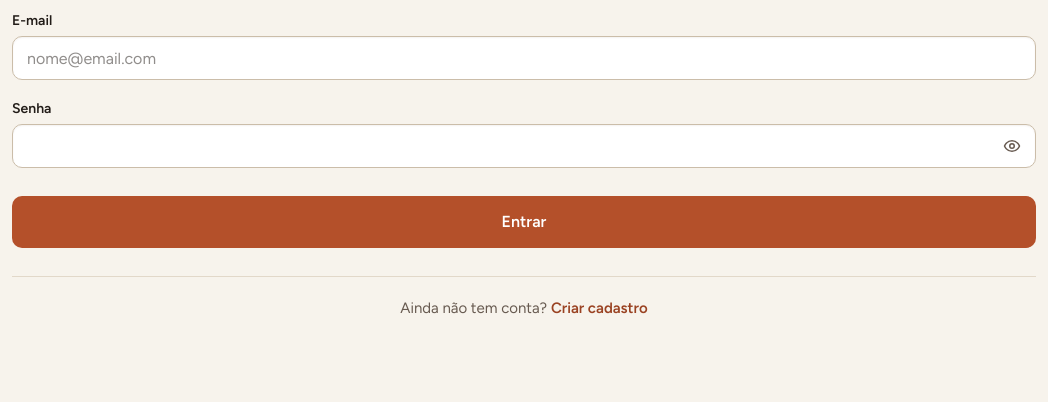
Scenario: LoginForm › credenciais invalidas mostram mensagem generica sem apontar o campo
Type "ana@origem.test" into the field labelled "E-mail" at (524, 58), box [12,36,1036,80]
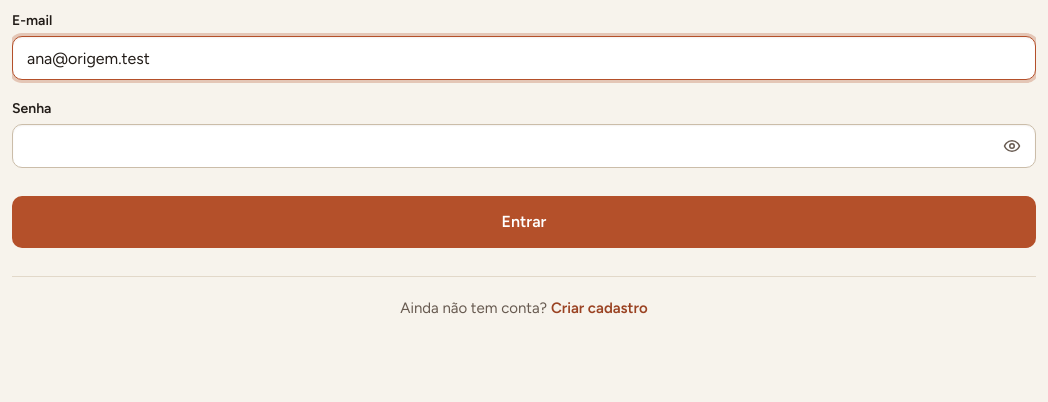
Type "senha-errada" into the password field labelled "Senha" at (524, 146), box [12,124,1036,168]
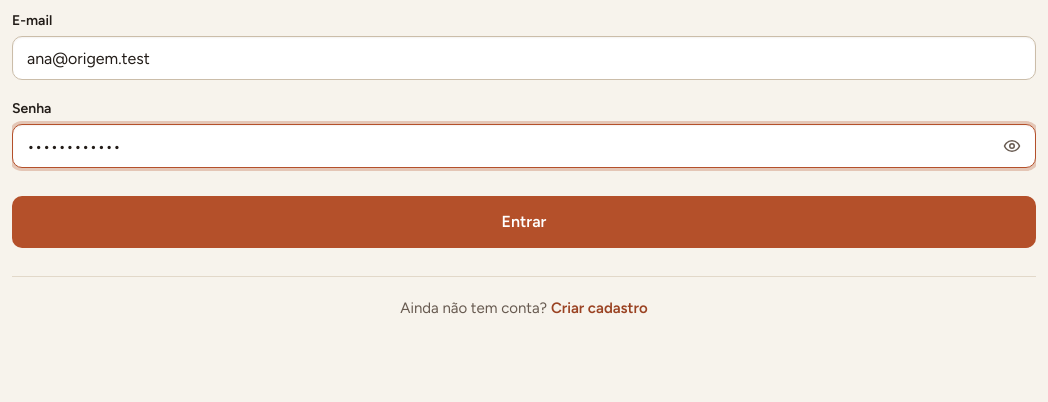
Click the button "Entrar" at (524, 222), box [12,196,1036,248]
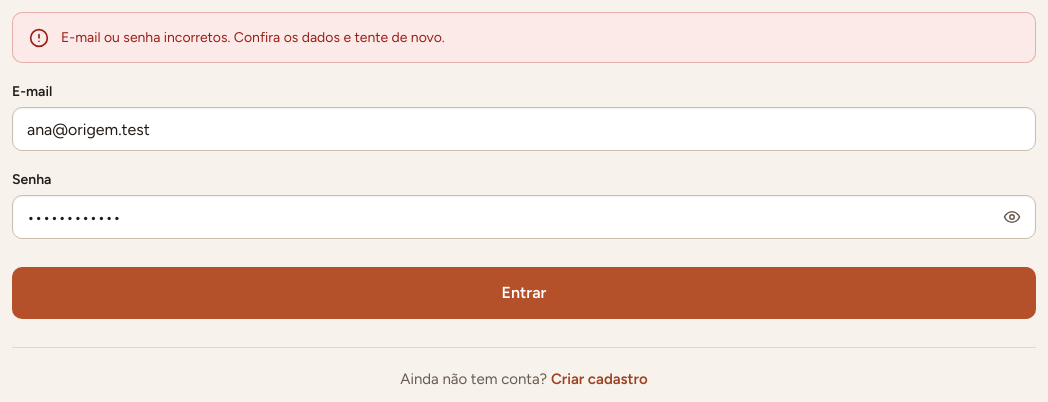
Check: the message reads "E-mail ou senha incorretos. Confira os dados e tente de novo.", box [61,29,445,46]
